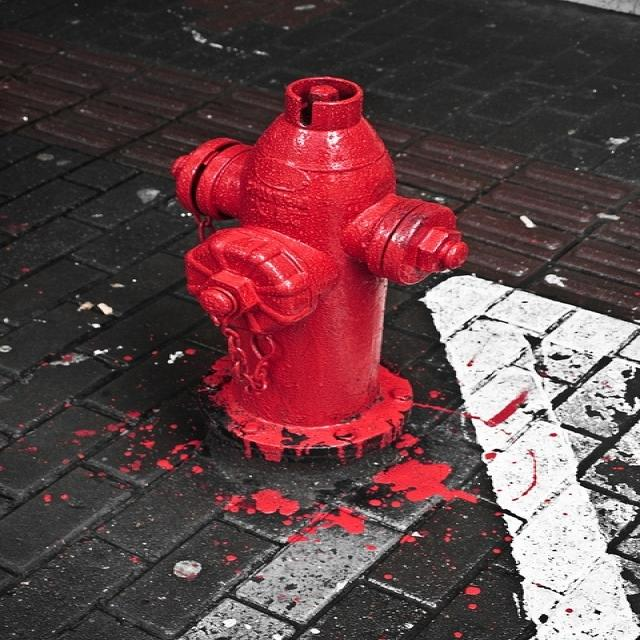fire_hydrant: (122, 0, 505, 489)
